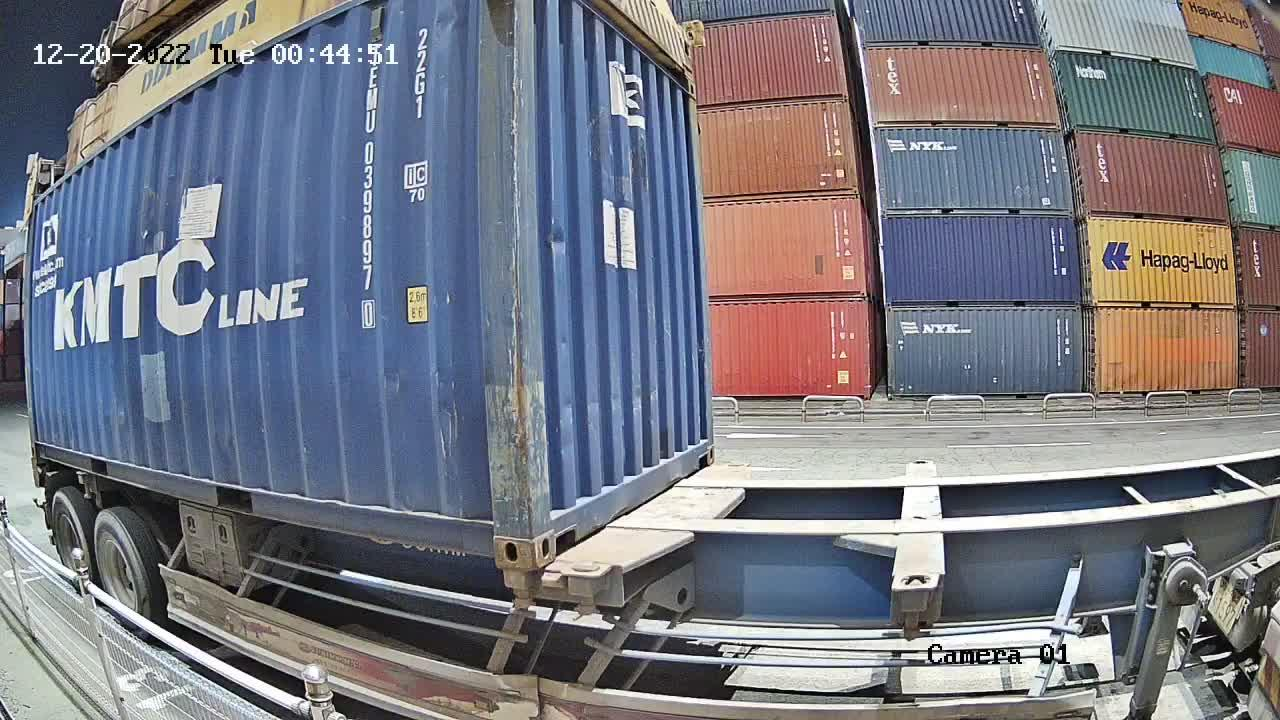Chassis: (568, 461, 753, 575)
Cone: (563, 563, 610, 618), (500, 566, 538, 612)
Hole_L: (532, 463, 591, 567)
Hole_R: (462, 484, 534, 565)
Tire: (94, 516, 146, 612), (53, 496, 89, 571)
